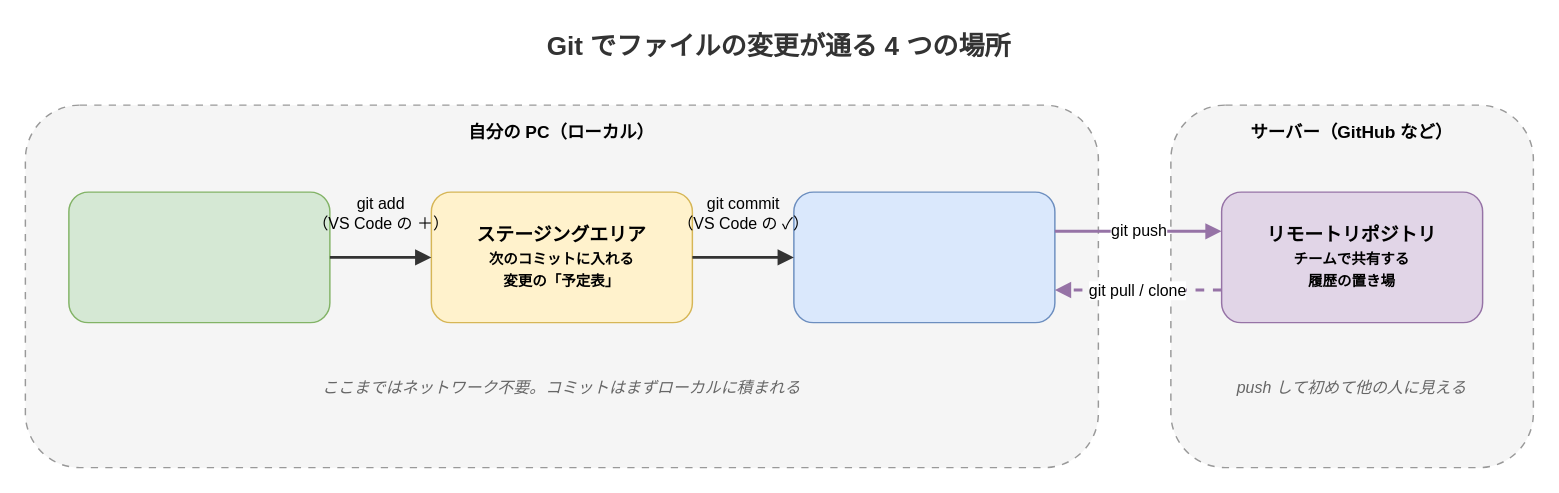
This 1559x493 diagram has some shape labels left out. The centre of each missing label's shape, as x and y in pixels:
"ローカルリポジトリ .git フォルダ コミット履歴の全量" goes at (923,257).
"作業ツリー エディタで編集して保存した ファイルそのもの" goes at (198,257).
